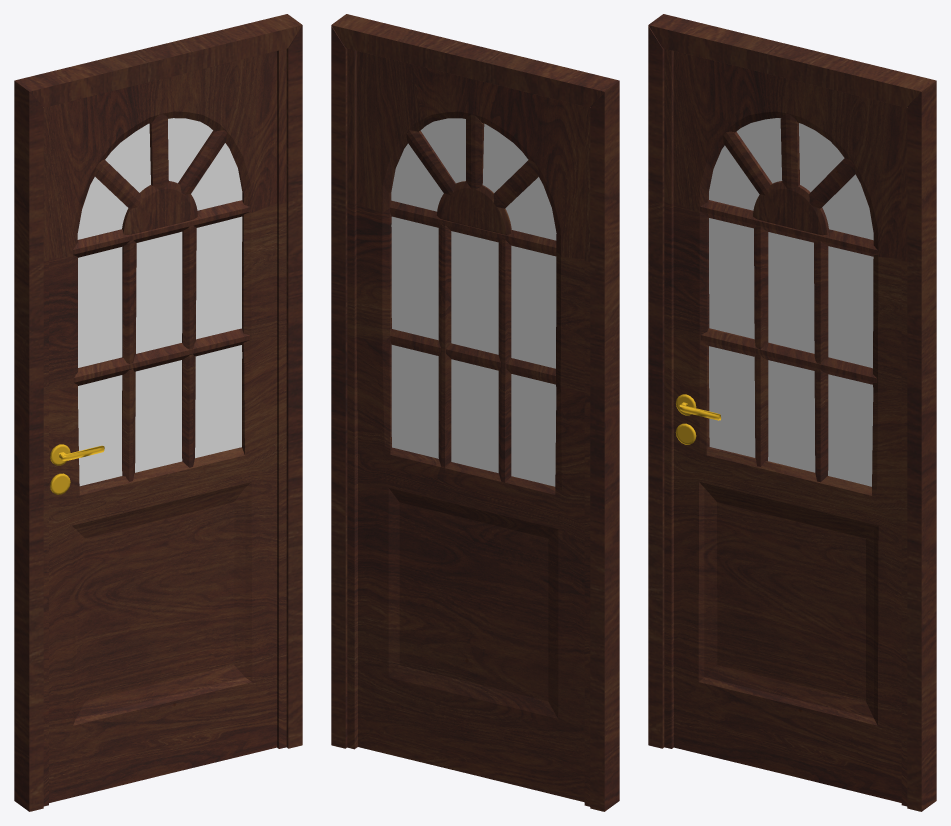
Rendered from PUERTA60_OXFORD.glb.
3 views of the same model, side by side, from view 1: azimuth 30°, elevation 25°; view 2: azimuth 150°, elevation 25°; view 3: azimuth 330°, elevation 25° (orthographic).
Parts seen in each view (by area): view 1: Puerta60_OXFORD, Puerta60_Marco, CRISTAL_GRANDE, Puerta60_Cerradura; view 2: Puerta60_OXFORD, Puerta60_Marco, CRISTAL_GRANDE; view 3: Puerta60_OXFORD, Puerta60_Marco, CRISTAL_GRANDE, Puerta60_Cerradura.
Boxes of the visible parts, x1,y1,x2,y2 form: Puerta60_OXFORD: [43, 48, 286, 806]; Puerta60_Marco: [14, 14, 302, 811]; CRISTAL_GRANDE: [77, 118, 242, 486]; Puerta60_Cerradura: [50, 444, 104, 494]; Puerta60_OXFORD: [347, 48, 590, 806]; Puerta60_Marco: [331, 14, 619, 811]; CRISTAL_GRANDE: [391, 118, 556, 486]; Puerta60_OXFORD: [664, 48, 907, 806]; Puerta60_Marco: [648, 14, 936, 811]; CRISTAL_GRANDE: [709, 118, 873, 486]; Puerta60_Cerradura: [675, 394, 721, 444].
Size of the model in its own units: 769 by 1936 by 85.
Materials: 6 (4 with a texture image).
